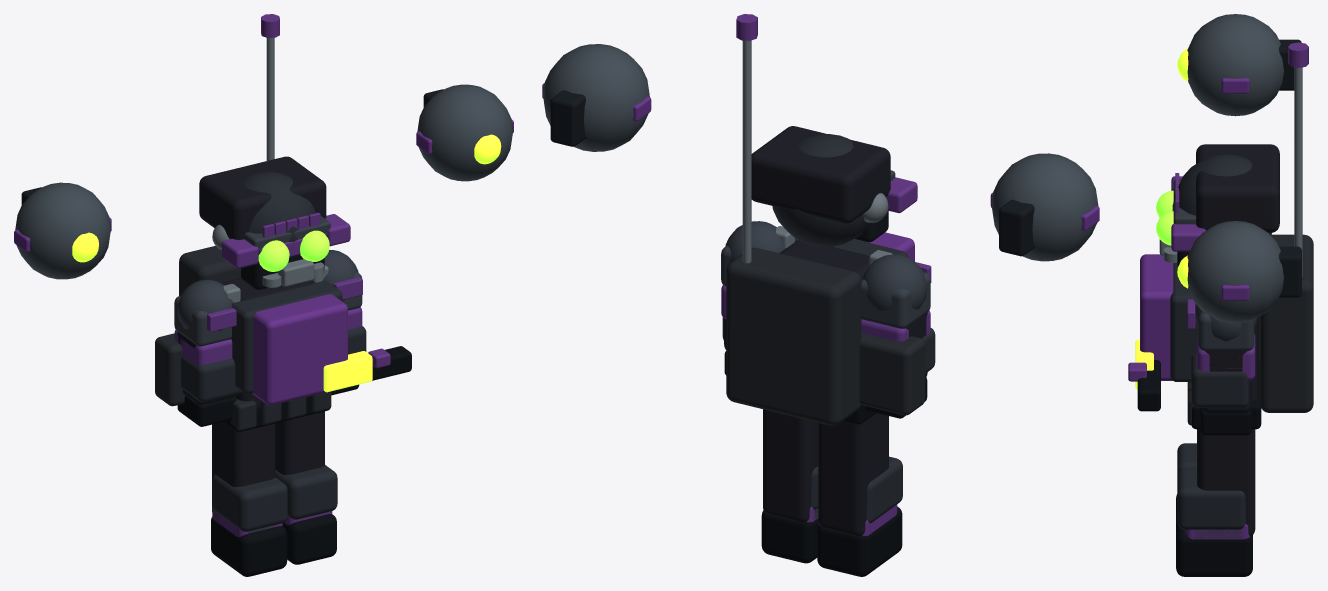
Rendered from aegis_l05.glb.
3 renders of one model, left to right at view 1: azimuth 30°, elevation 25°; view 2: azimuth 150°, elevation 25°; view 3: azimuth 270°, elevation 25°, orthographic. The views are drawn at different scales.
Parts seen in each view (by area): view 1: interceptor_core (×2), control_vest, trouser (×2), shaped_knee_guard (×2), boot (×2), hood, segmented_vest, rounded_helmet, shoulder_joint (×2), forearm_plate, field_pack, map_satchel (+15 smaller); view 2: field_pack, interceptor_core (×2), trouser (×2), hood, boot (×2), map_satchel, shoulder_joint (×2), interceptor_tail (×2), rounded_helmet, signal_mast, shoulder_plate, shaped_knee_guard (+3 smaller); view 3: interceptor_core (×2), field_pack, hood, trouser, shaped_knee_guard (×2), control_vest, boot, segmented_vest, forearm_plate, rounded_helmet, interceptor_tail (×2), signal_mast (+20 smaller).
Boxes of the visible parts, box(x1,y1,x2,y2) form: interceptor_core (×2): box(15, 84, 513, 279); control_vest: box(252, 294, 347, 405); trouser (×2): box(212, 411, 324, 511); shaped_knee_guard (×2): box(212, 465, 337, 531); boot (×2): box(211, 514, 336, 576); hood: box(199, 156, 326, 239); segmented_vest: box(231, 281, 342, 393); rounded_helmet: box(243, 171, 316, 256); shoulder_joint (×2): box(177, 250, 358, 330); forearm_plate: box(181, 355, 241, 402); field_pack: box(179, 245, 241, 295); map_satchel: box(155, 333, 184, 406); field_pack: box(726, 247, 861, 425); interceptor_core (×2): box(543, 44, 1098, 261); trouser (×2): box(763, 409, 888, 536); hood: box(751, 126, 890, 223); boot (×2): box(761, 506, 902, 576); map_satchel: box(859, 332, 925, 415); shoulder_joint (×2): box(725, 221, 927, 311); interceptor_tail (×2): box(550, 90, 1034, 256); rounded_helmet: box(772, 134, 870, 246); signal_mast: box(742, 40, 751, 263); shoulder_plate: box(861, 272, 930, 328); shaped_knee_guard: box(867, 456, 902, 523); interceptor_core (×2): box(1187, 14, 1283, 322); field_pack: box(1260, 234, 1313, 412); hood: box(1196, 144, 1279, 232); trouser: box(1197, 429, 1255, 536); shaped_knee_guard (×2): box(1177, 443, 1245, 529); control_vest: box(1140, 254, 1173, 380); boot: box(1176, 520, 1252, 576); segmented_vest: box(1170, 262, 1198, 381); forearm_plate: box(1191, 353, 1248, 407); rounded_helmet: box(1172, 154, 1271, 234); interceptor_tail (×2): box(1279, 39, 1301, 297); signal_mast: box(1294, 67, 1302, 276).
Bounding box in the file's own units: 2.55 × 2.49 × 0.795.
